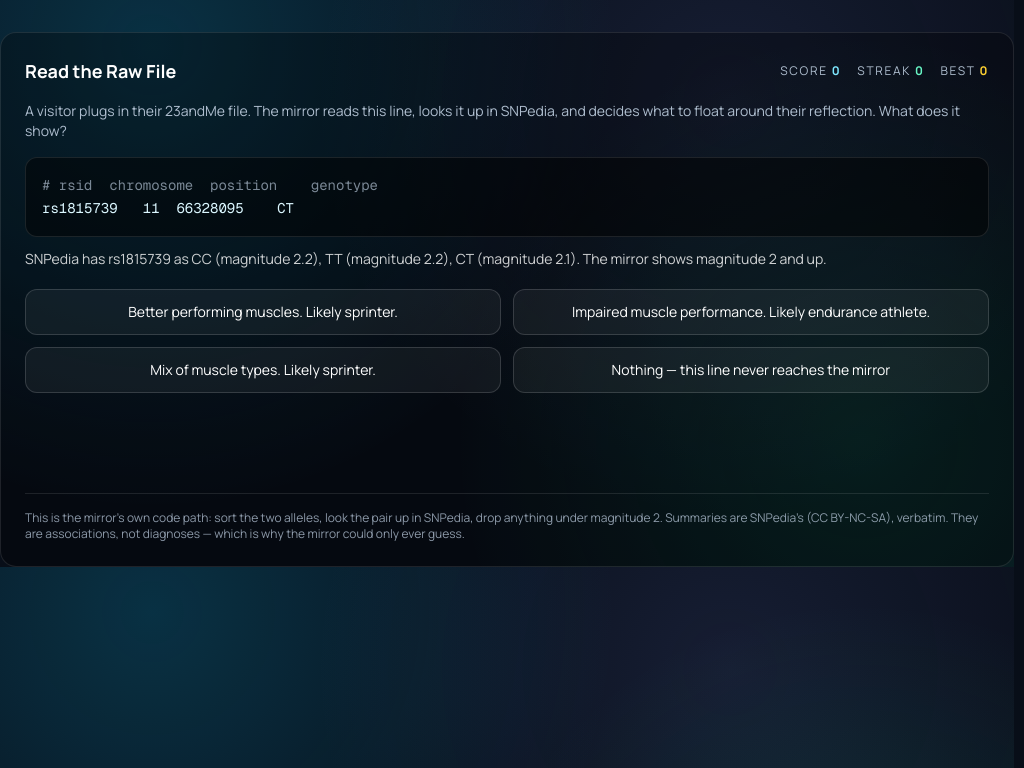
Test case: DnaSnpGame › scores what the mirror actually shows
Click the button with test id "dna-option-2": click(263, 370) [25, 346, 501, 392]
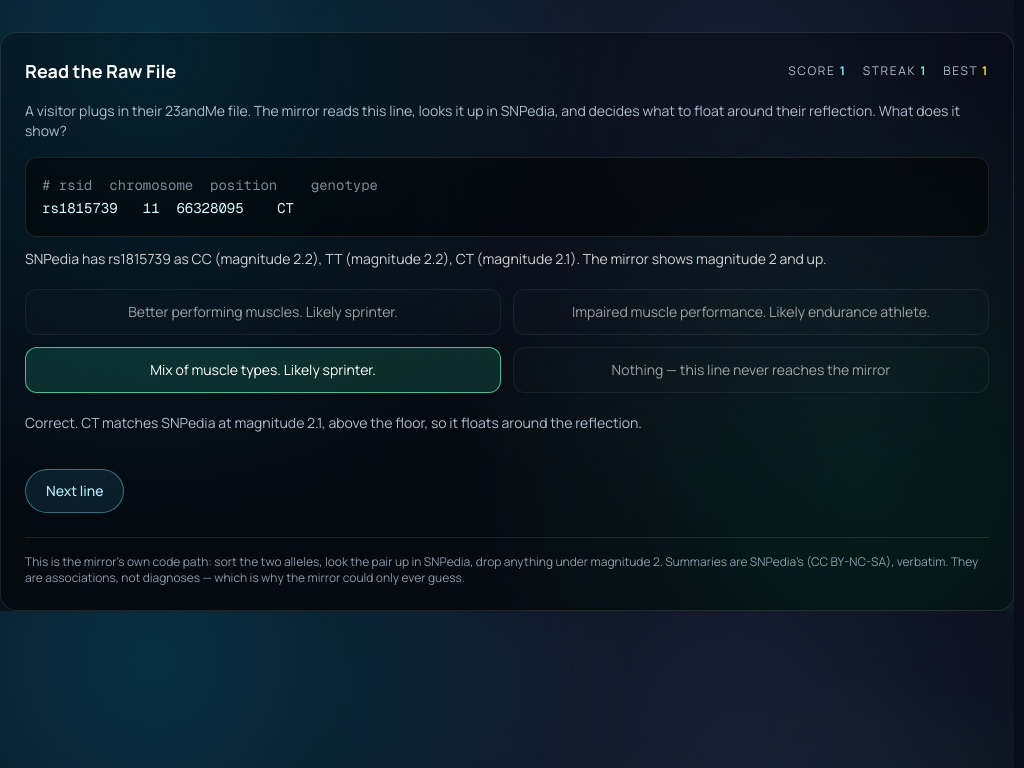
Result: the text with test id "dna-game-score" reads "1" at [840, 62, 847, 79]
Result: the message with test id "dna-game-message" shows "Correct. CT matches SNPedia" at [25, 412, 642, 432]
Result: the button with test id "dna-option-0" is disabled at [25, 288, 501, 334]
